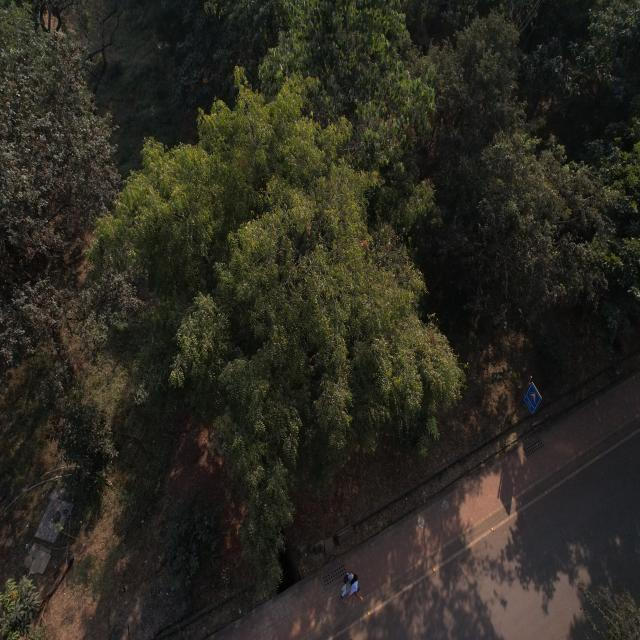Neem-Tree: (80, 94, 457, 516)
